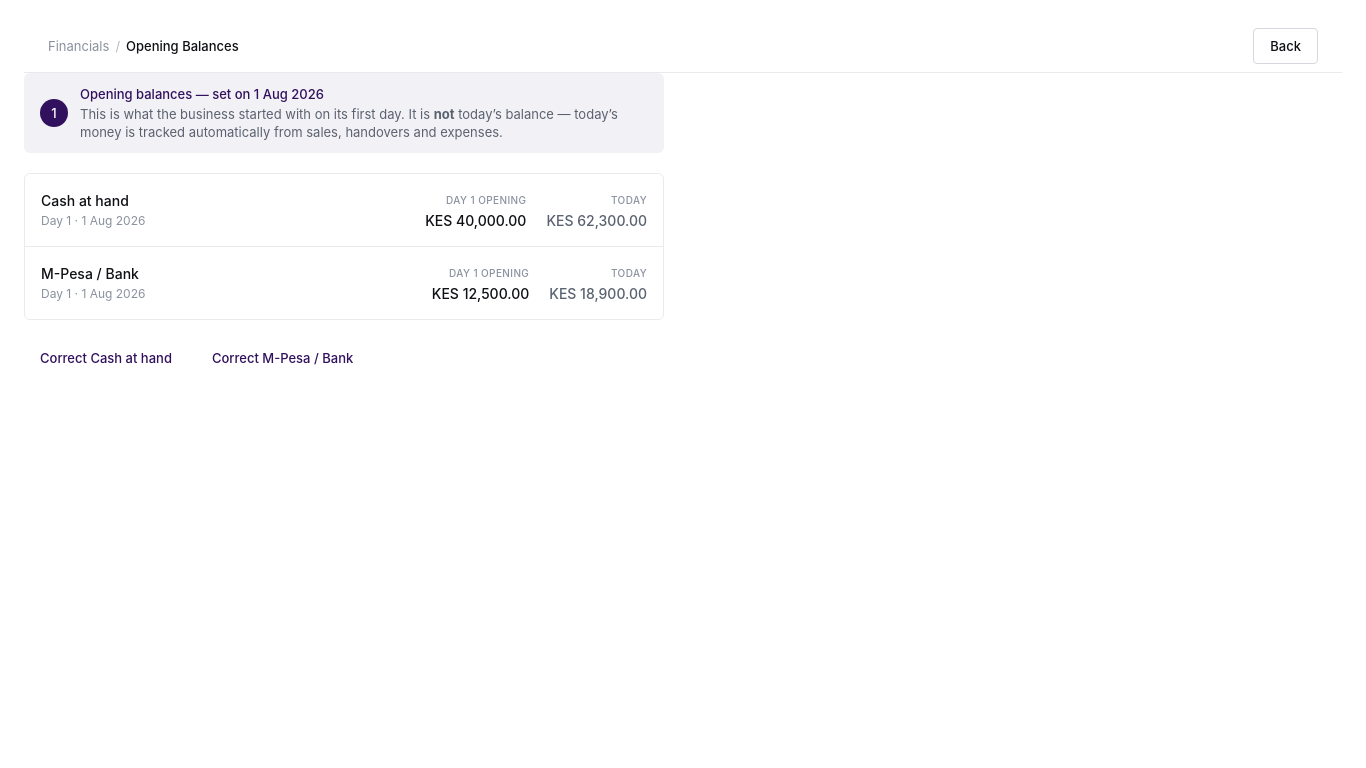
Test: /admin/financials/opening — the correction drawer › prefills the current figure and disables Save until it changes
The width and height of the screenshot is (1366, 768).
Click the button "Correct Cash at hand" at (106, 358), box [24,340,188,376]
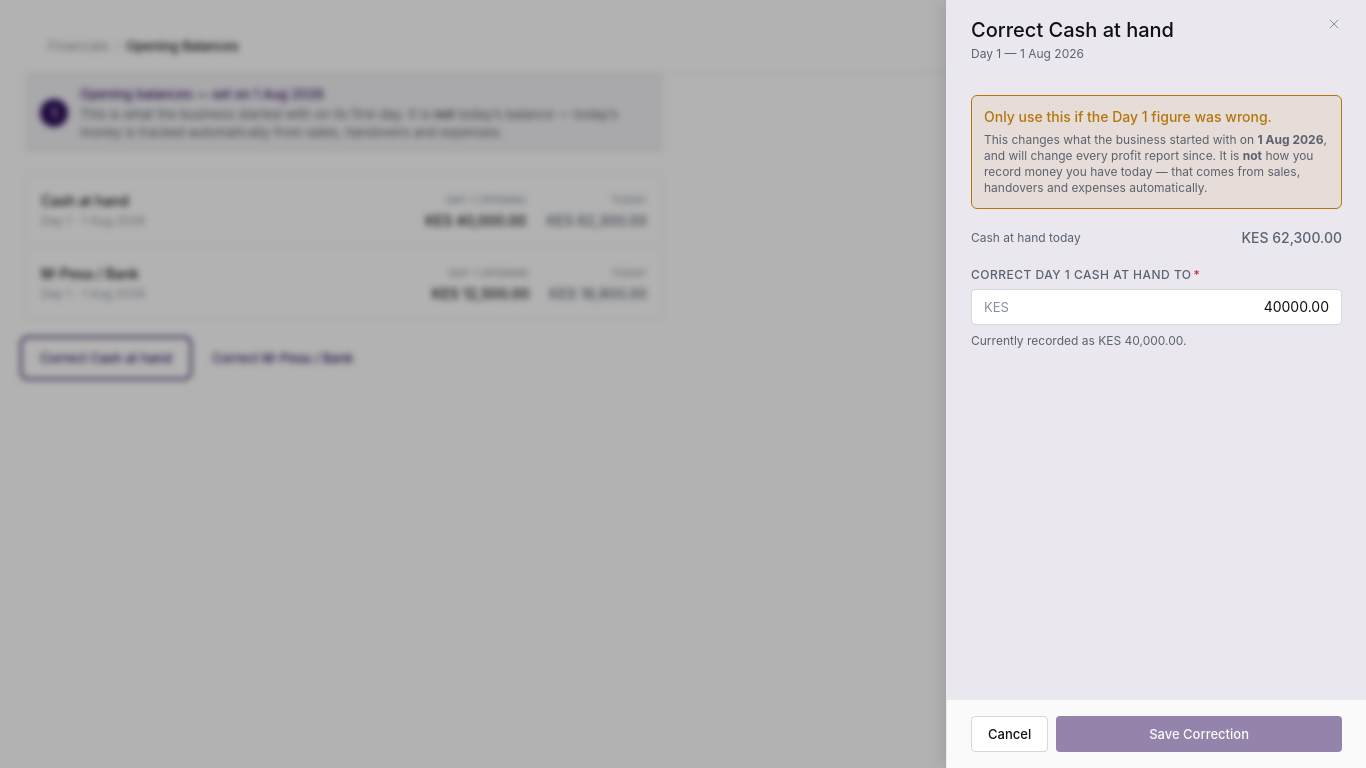
Expected: the field labelled "Correct Day 1 Cash at hand to*" holds "40000.00"
Expected: the button "Save Correction" is disabled, [1056,716,1342,752]
Replace the text in the field labelled "Correct Day 1 Cash at hand to*" with "45000" at (1169, 307), box [1009,298,1329,316]
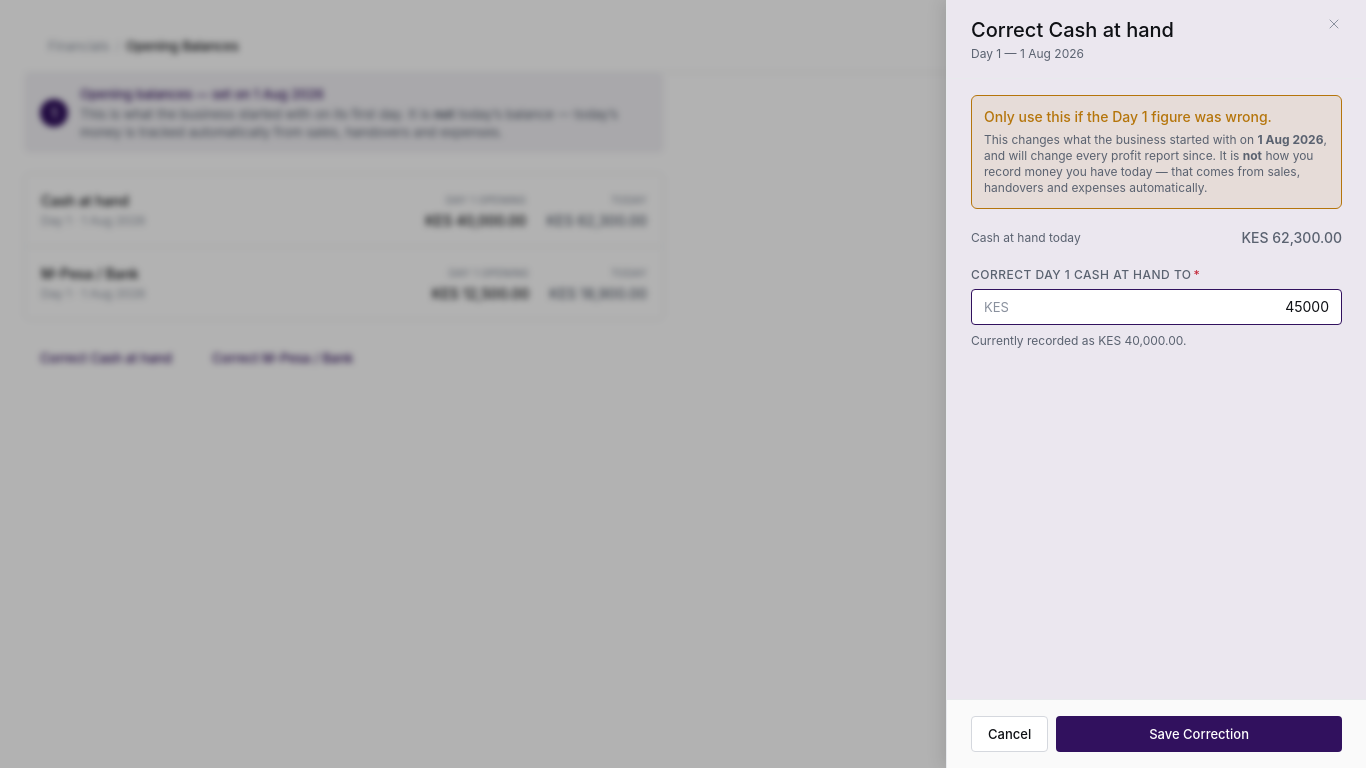
Expected: the button "Save Correction" is enabled, [1056,716,1342,752]
